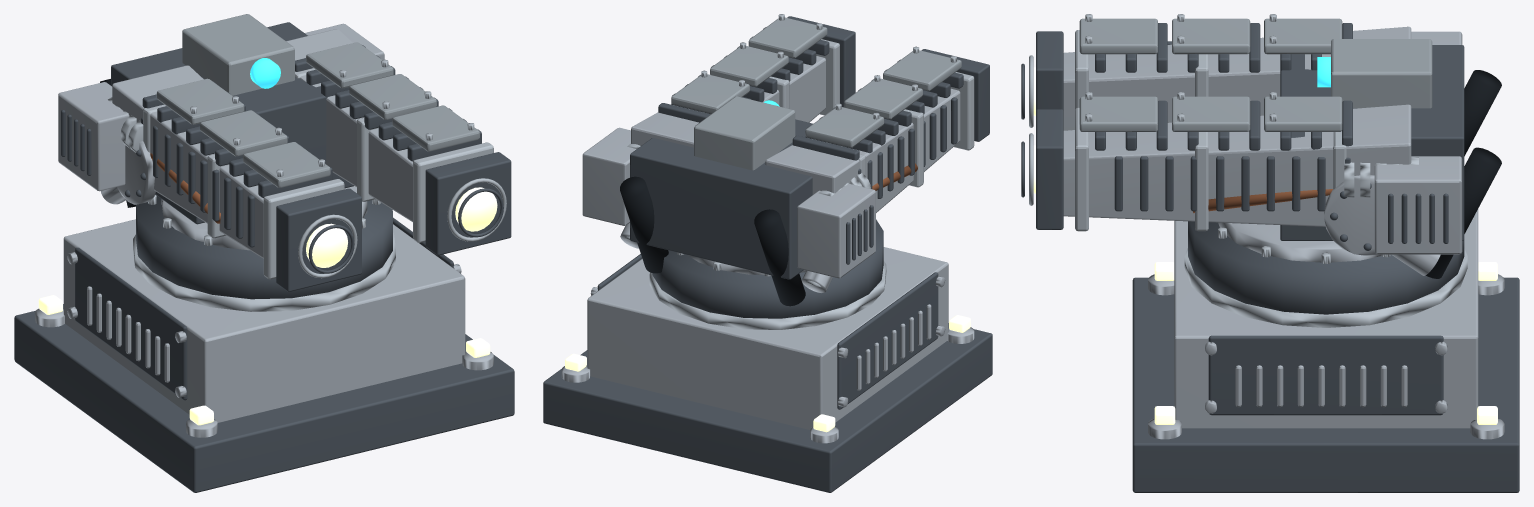
The model's file is ips.glb.
The picture shows the model from 3 angles, left to right: view 1: azimuth 30°, elevation 25°; view 2: azimuth 150°, elevation 25°; view 3: azimuth 270°, elevation 25°; orthographic projection. The views are drawn at different scales.
Visible parts, largest first — view 1: body_dark.166, body_steel.175, head_dark.022, head_ceramic.006, head_steel.035, body_dark.167, head_titanium.013, body_titanium.037, body_steel.176, head_titanium.012, head_warm.008, head_steel.034 (+3 smaller); view 2: body_dark.166, body_steel.175, head_dark.022, head_steel.035, head_ceramic.006, body_dark.167, head_rubber.008, head_titanium.013, body_titanium.037, body_steel.176, body_warm.115, head_titanium.012 (+1 smaller); view 3: body_dark.166, head_steel.035, head_dark.022, head_ceramic.006, body_steel.175, body_dark.167, body_steel.176, head_titanium.013, body_titanium.037, head_rubber.008, head_steel.034, head_titanium.012 (+3 smaller).
Part boxes in pixels (x1,y1,x2,y2): body_dark.166: (14,217,514,492); body_steel.175: (63,219,465,422); head_dark.022: (61,22,511,291); head_ceramic.006: (156,14,479,187); head_steel.035: (58,23,412,258); body_dark.167: (136,194,392,299); head_titanium.013: (143,68,493,279); body_titanium.037: (133,194,395,311); body_steel.176: (35,186,493,437); head_titanium.012: (108,59,506,278); head_warm.008: (306,187,497,267); head_steel.034: (100,141,155,204); body_dark.166: (543,254,992,492); body_steel.175: (587,247,948,429); head_dark.022: (630,16,989,279); head_steel.035: (582,56,960,278); head_ceramic.006: (671,17,961,170); body_dark.167: (652,219,883,318); head_rubber.008: (620,176,805,306); head_titanium.013: (769,39,974,187); body_titanium.037: (649,252,886,329); body_steel.176: (561,255,974,443); body_warm.115: (565,315,970,432); head_titanium.012: (624,14,956,287); body_dark.166: (1132,277,1519,492); head_steel.035: (1063,26,1462,254); head_dark.022: (1036,23,1464,243); head_ceramic.006: (1079,18,1432,131); body_steel.175: (1174,209,1478,428); body_dark.167: (1188,221,1464,314); body_steel.176: (1148,222,1504,439); head_titanium.013: (1075,30,1346,231); body_titanium.037: (1184,227,1467,327); head_rubber.008: (1426,70,1501,278); head_steel.034: (1324,175,1440,275); head_titanium.012: (1029,14,1418,205).
Size of the model in its own units: 0.86 by 0.85 by 1.08.
